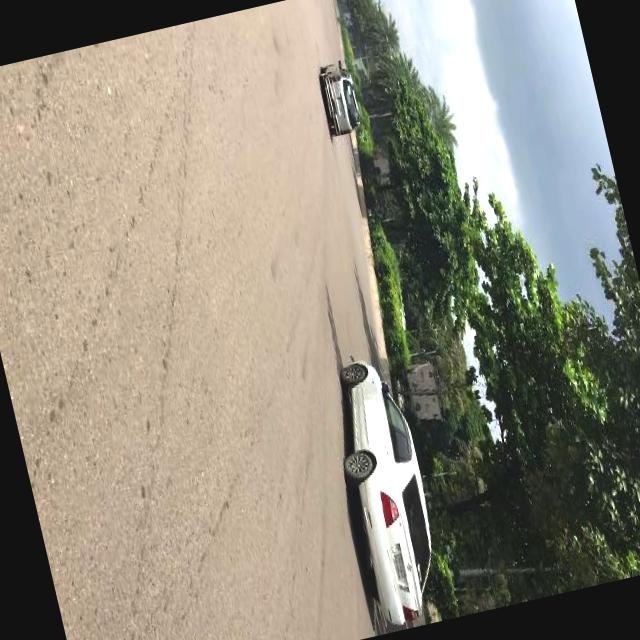car: (316, 342, 454, 630), (314, 56, 366, 140)
